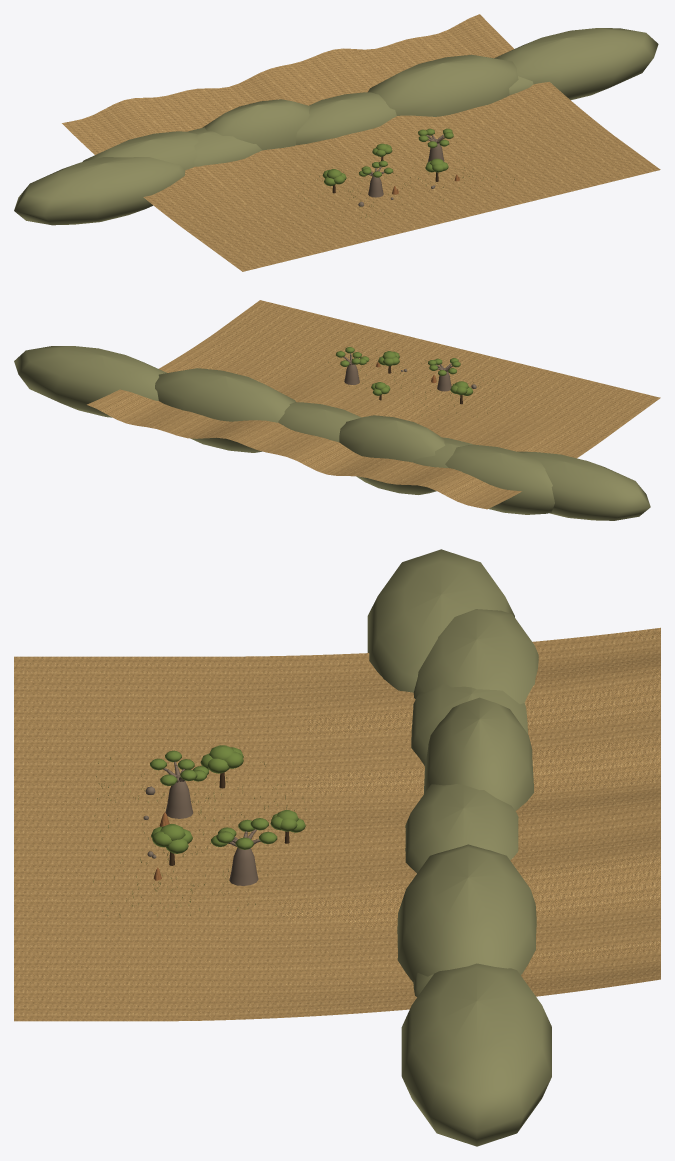
File: brousse.glb
3 renders of one model, top to bottom at view 1: azimuth 30°, elevation 25°; view 2: azimuth 150°, elevation 25°; view 3: azimuth 270°, elevation 25°, orthographic. The views are drawn at different scales.
Visible parts, largest first — view 1: sol, decor; view 2: sol, decor; view 3: sol, decor.
Part boxes in pixels (left/top/right/bottom): sol: left=62, top=14, right=660, bottom=271; decor: left=14, top=28, right=658, bottom=225; sol: left=87, top=300, right=660, bottom=509; decor: left=14, top=345, right=650, bottom=520; sol: left=14, top=627, right=660, bottom=1021; decor: left=92, top=549, right=551, bottom=1146.
Size of the model in its own units: 188 by 19.8 by 90.
8 materials, 1 textured.
